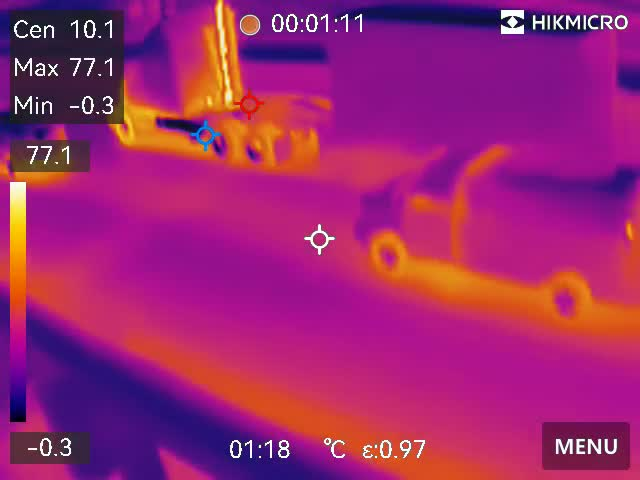heavyTruck: (102, 18, 640, 177)
lightTruck: (357, 144, 640, 335)
